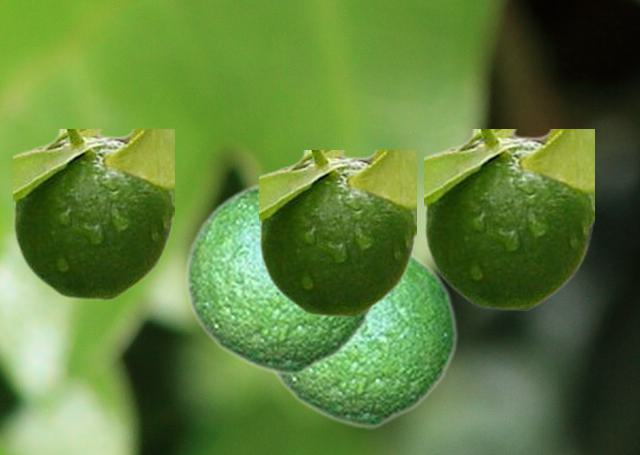dalandan: (183, 179, 378, 375), (269, 251, 457, 428), (424, 129, 593, 309), (13, 129, 173, 299), (259, 150, 415, 316)
